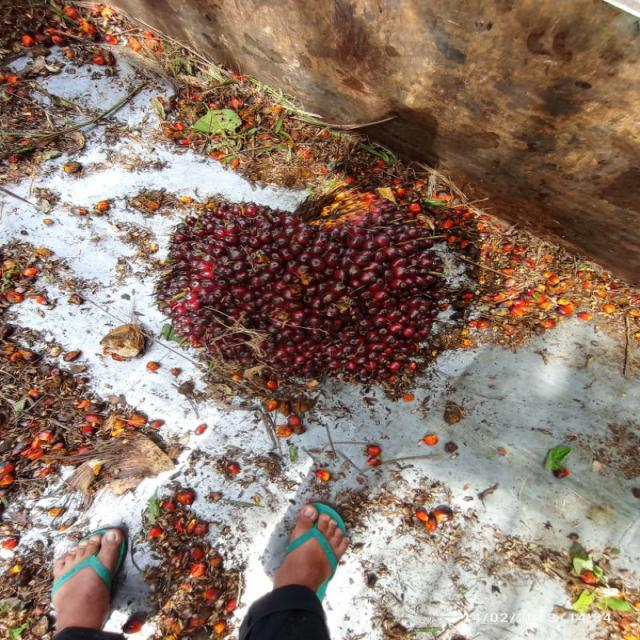fraksi 1: (122, 166, 544, 413)
